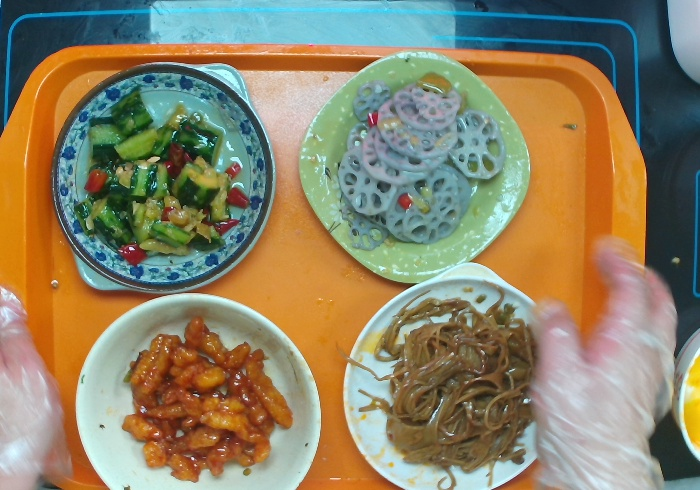NLDX-Bai_Se_Shuang_Er_Die: (341, 260, 542, 490)
NLDX-Bai_Se_Yuan_Wan: (72, 290, 324, 490)
NLDX-Lv_Hua_Fang_Die: (297, 48, 532, 284)
NLDX-Qing_Hua_Shuang_Er_Die: (48, 60, 278, 294)
